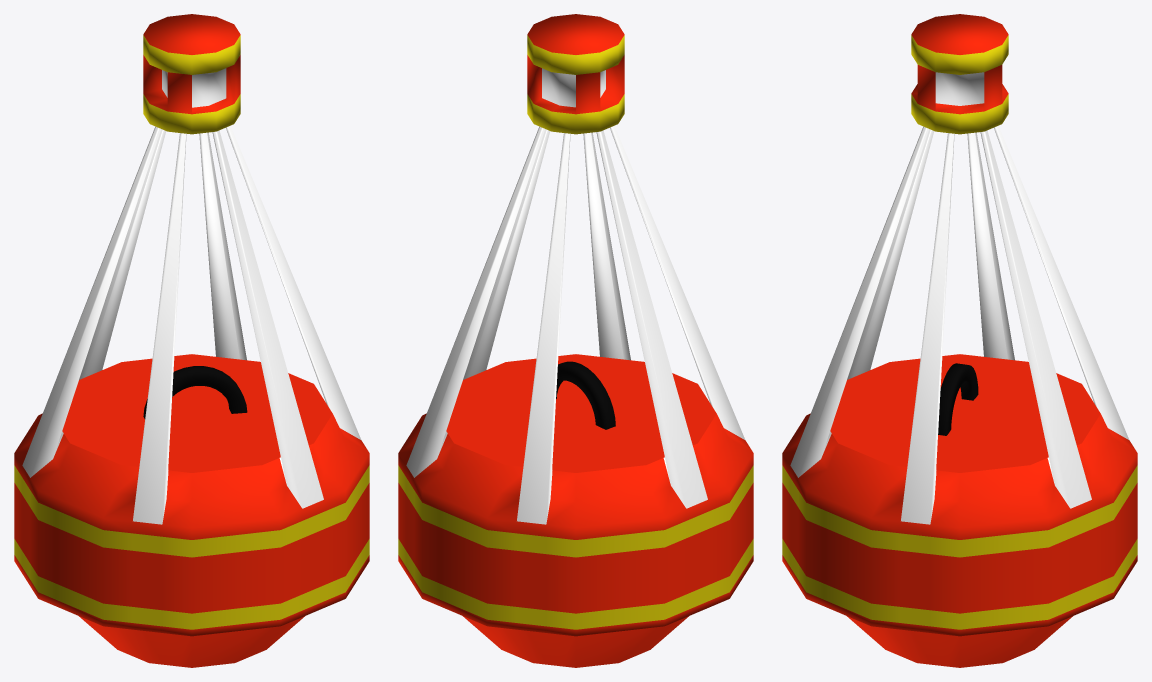
The model's file is Buoy.fbx.
3 views of the same model, side by side, from view 1: azimuth 30°, elevation 25°; view 2: azimuth 150°, elevation 25°; view 3: azimuth 270°, elevation 25° (orthographic).
Parts seen in each view (by area): view 1: Cylinder, Cylinder.001, Circle; view 2: Cylinder, Cylinder.001, Circle; view 3: Cylinder, Cylinder.001, Circle.
Boxes of the visible parts, left/top/right/bottom form: Cylinder: left=14, top=125, right=369, bottom=667; Cylinder.001: left=143, top=14, right=240, bottom=134; Circle: left=143, top=366, right=247, bottom=418; Cylinder: left=398, top=125, right=753, bottom=667; Cylinder.001: left=527, top=14, right=624, bottom=134; Circle: left=556, top=361, right=615, bottom=429; Cylinder: left=782, top=125, right=1137, bottom=667; Cylinder.001: left=911, top=14, right=1008, bottom=134; Circle: left=938, top=363, right=978, bottom=435.
Bounding box in the file's own units: 141 × 271 × 141.
